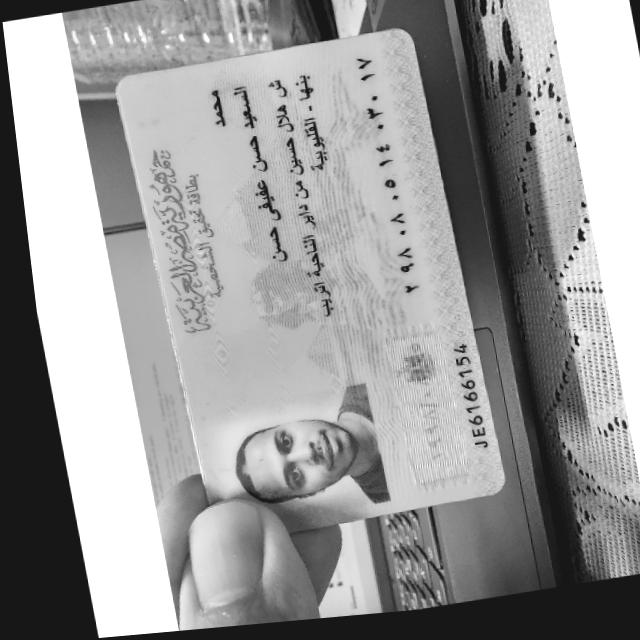front: (116, 28, 503, 531)
